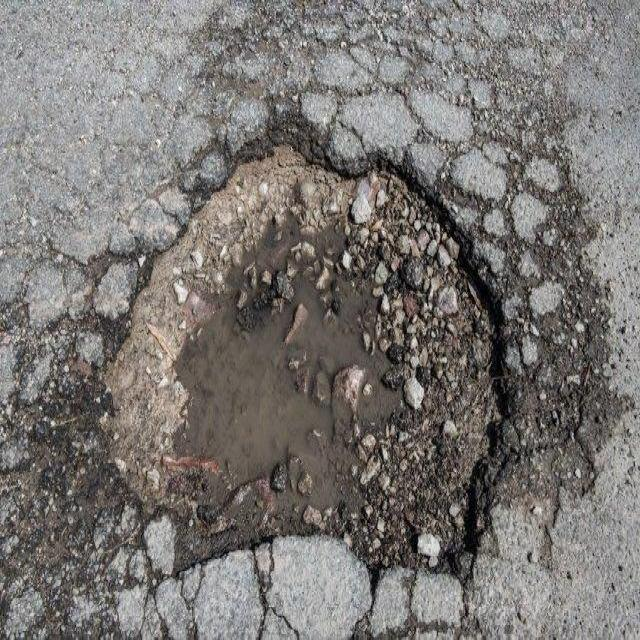lubang: (48, 109, 502, 583)
